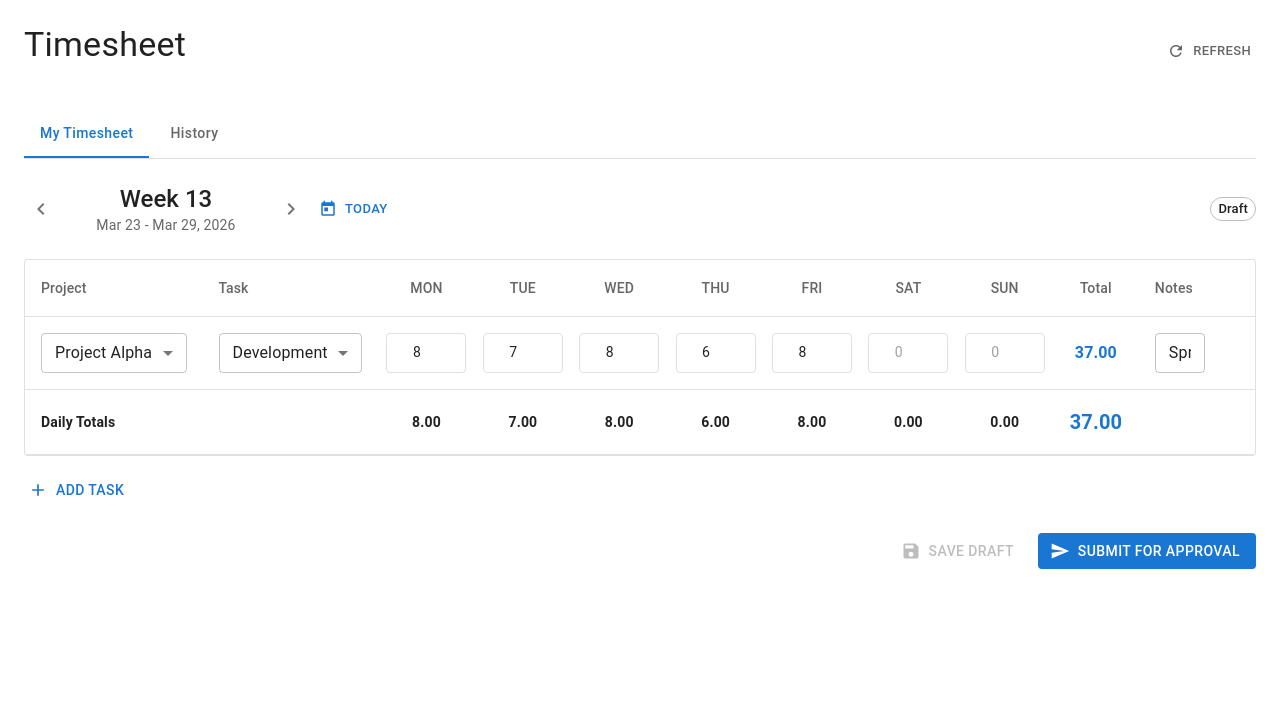
Test: Add / Delete Tasks › clicking Add Task adds a new row
Check: the heading "Timesheet" is shown, box [24,24,186,66]
# Count existing project selects (1 row for existing data)
What coordinates should you click on to do the following:
click the button with test id "timesheet-add-task"
I would click on:
 (78, 490)
Its box is [24,472,132,508].
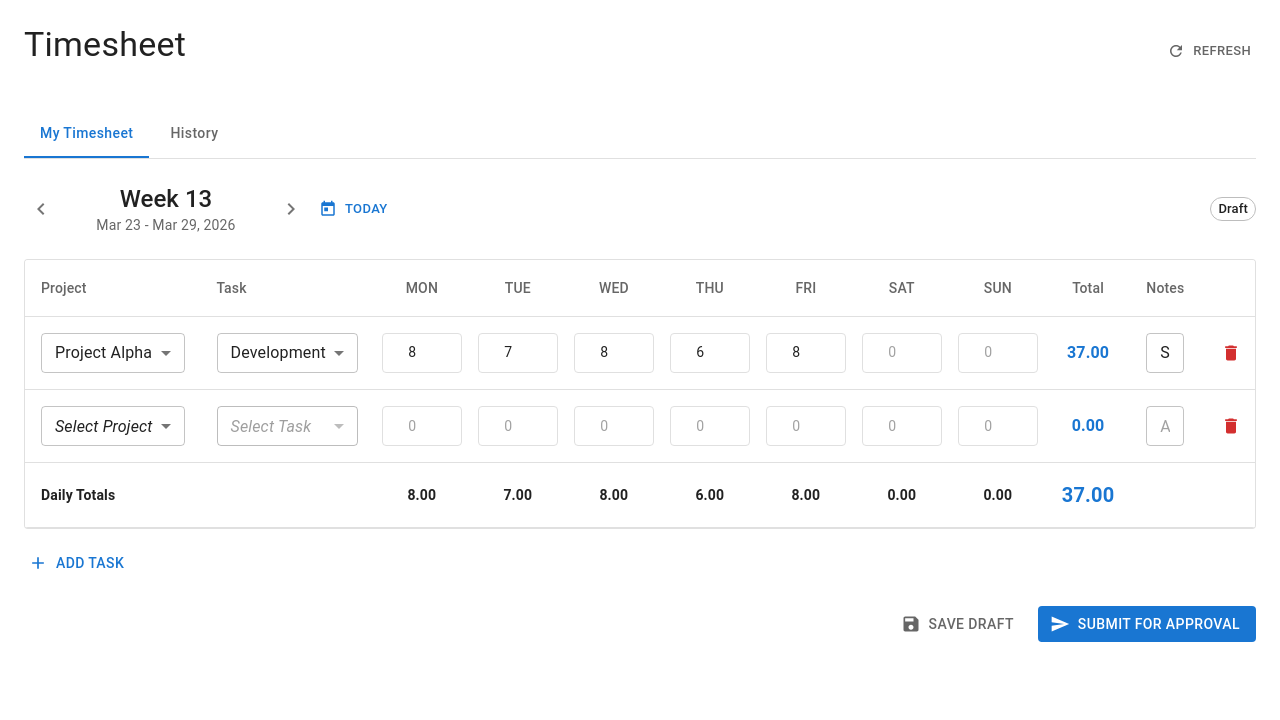
Check: the element with test id "timesheet-project-select-1" is shown, box [41,406,185,446]
